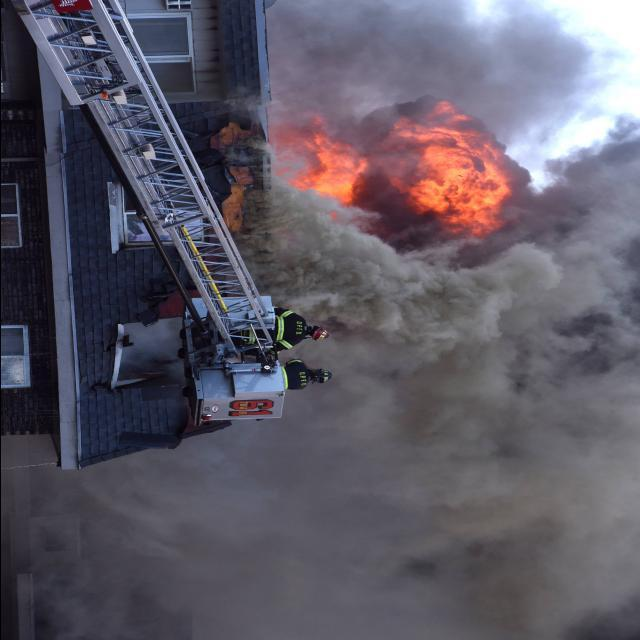Fire: (228, 108, 526, 250)
